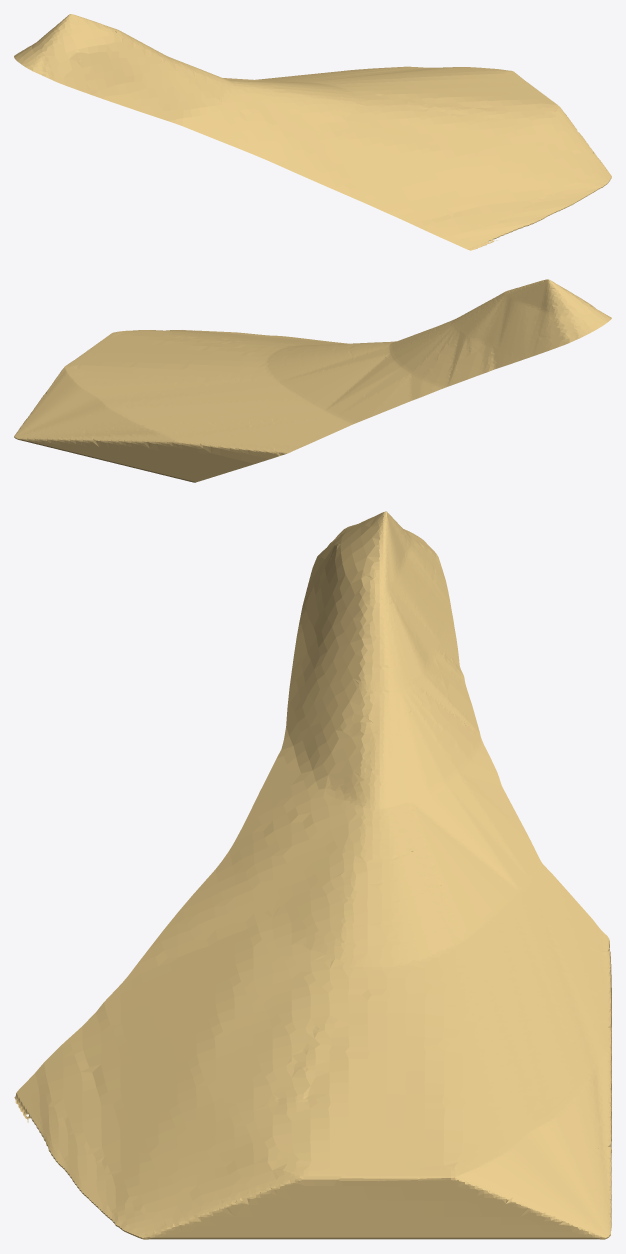
Rendered from sadeiue.glb.
3 renders of one model, top to bottom at view 1: azimuth 30°, elevation 25°; view 2: azimuth 150°, elevation 25°; view 3: azimuth 270°, elevation 25°, orthographic. The views are drawn at different scales.
Parts seen in each view (by area): view 1: sadeiue; view 2: sadeiue; view 3: sadeiue.
Part boxes in pixels (x1,y1,x2,y2): sadeiue: (14, 14, 611, 250); sadeiue: (14, 279, 611, 482); sadeiue: (14, 511, 611, 1239).
Size of the model in its own units: 20.48 by 8.35 by 12.57.
